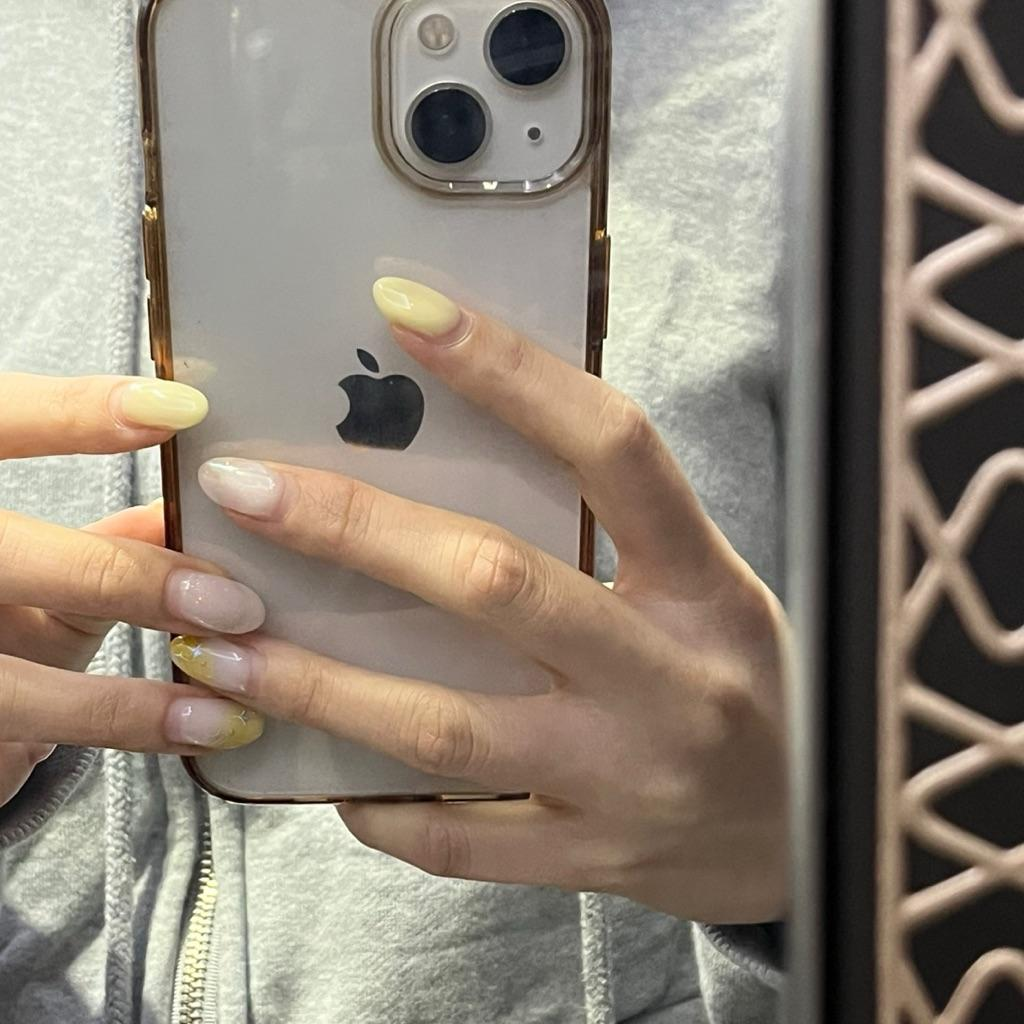nail: (371, 273, 461, 339), (196, 454, 285, 520), (162, 694, 264, 750), (108, 376, 209, 432)
